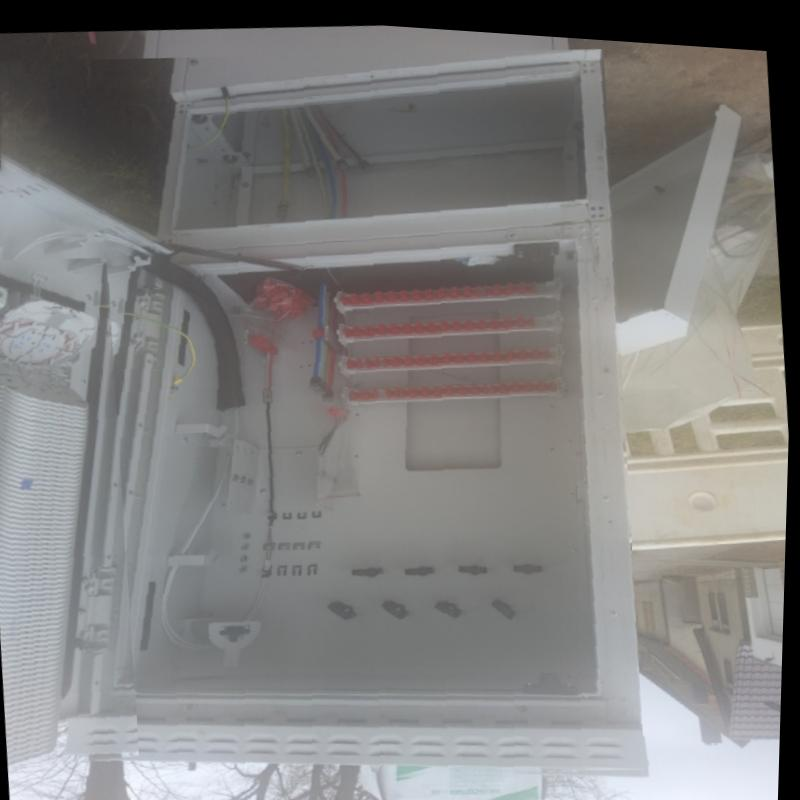NT-Gehause: (0, 41, 650, 767)
Spleiskassetten: (0, 265, 112, 767)
